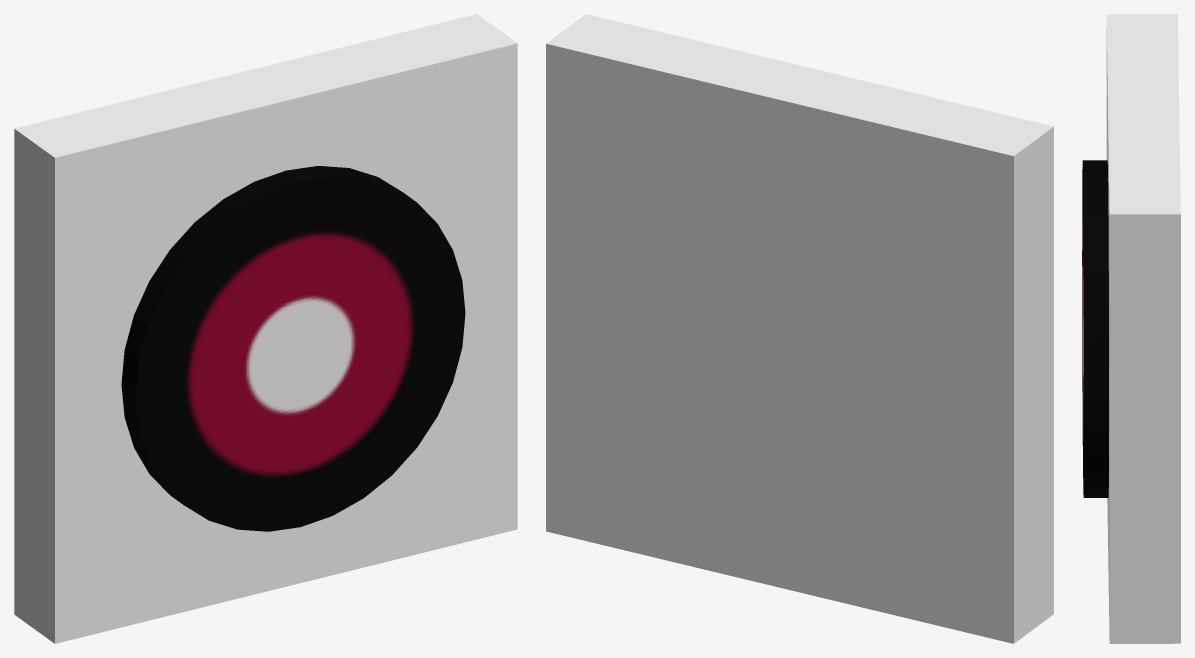
Rendered from demo3_dartboard.glb.
The picture shows the model from 3 angles, left to right: view 1: azimuth 30°, elevation 25°; view 2: azimuth 150°, elevation 25°; view 3: azimuth 270°, elevation 25°; orthographic projection. The views are drawn at different scales.
Visible parts, largest first — view 1: Cube.001; view 2: Cube.001; view 3: Cube.001.
Part boxes in pixels (box(x1,y1,x2,y2)): Cube.001: box(14, 14, 517, 643); Cube.001: box(546, 14, 1053, 643); Cube.001: box(1082, 14, 1180, 643).
Size of the model in its own units: 2 by 2 by 0.4164.
Materials: 2 (2 with a texture image).
